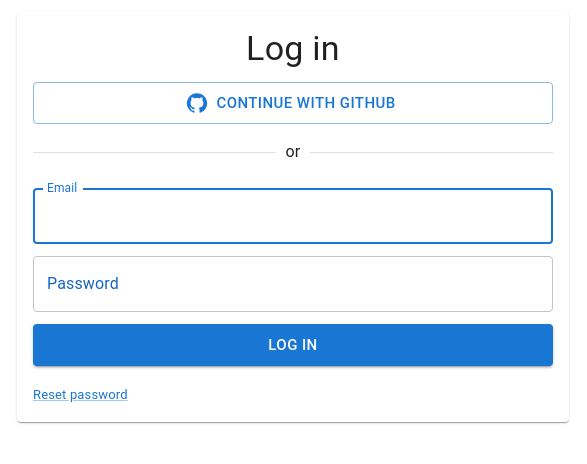
displays error when password field is empty
// Fill in the email field
Type "user@example.com" into the field labelled "Email" at (293,216), box left=33, top=188, right=553, bottom=244
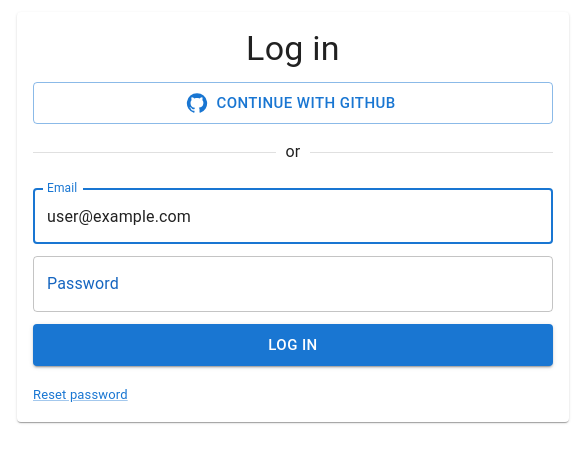
// Click the login button
Click the button "Log in" at (293,345), box left=33, top=324, right=553, bottom=366
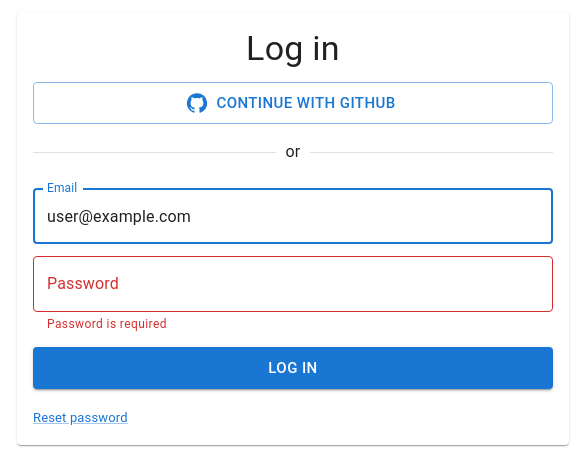
expect the button "Log in" is enabled: met, box left=33, top=347, right=553, bottom=389
expect the text "Password is required" is shown: met, box left=47, top=317, right=167, bottom=331
